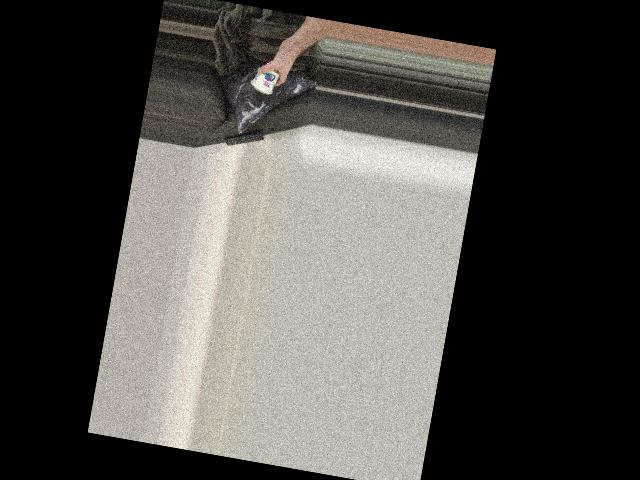cotage: (247, 60, 284, 99)
